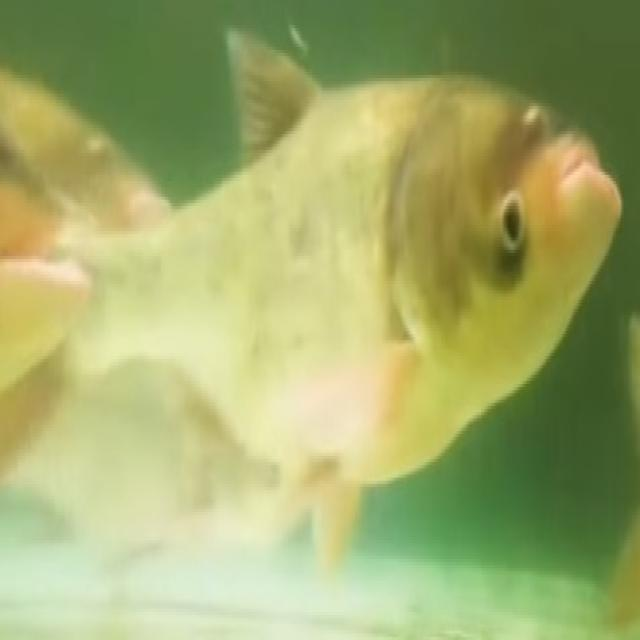Big-Head-Carp: (14, 14, 632, 567)
